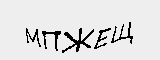Е: (92, 27, 112, 51)
Ж: (61, 27, 93, 55)
М: (23, 27, 44, 49)
П: (40, 29, 62, 53)
Щ: (112, 21, 136, 45)
